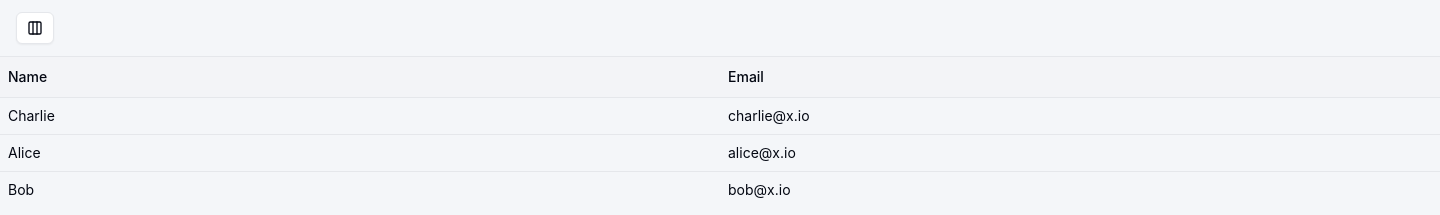
Test case: DataTable column visibility › omits columns that opt out of hiding from the menu
Click the button with test id "view-options-trigger". click: [35, 28]
box: [16,12,54,44]
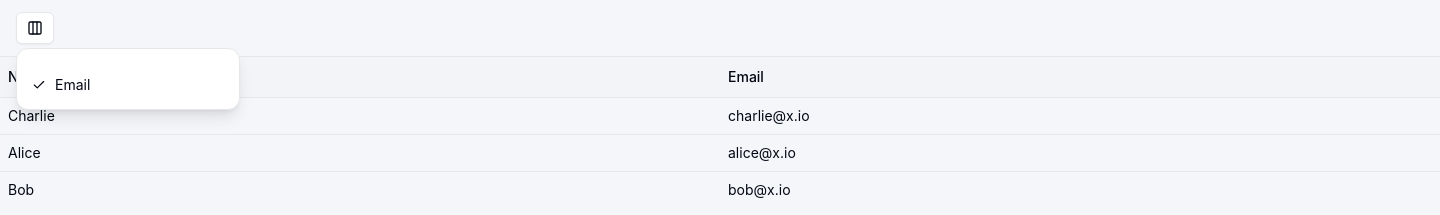
Expected: the menu item with test id "view-option-email" is shown, [32,76,90,93]
